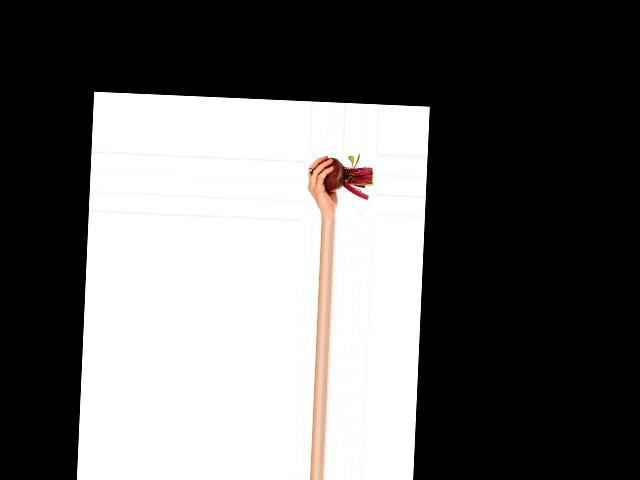beet: (308, 151, 373, 200)
